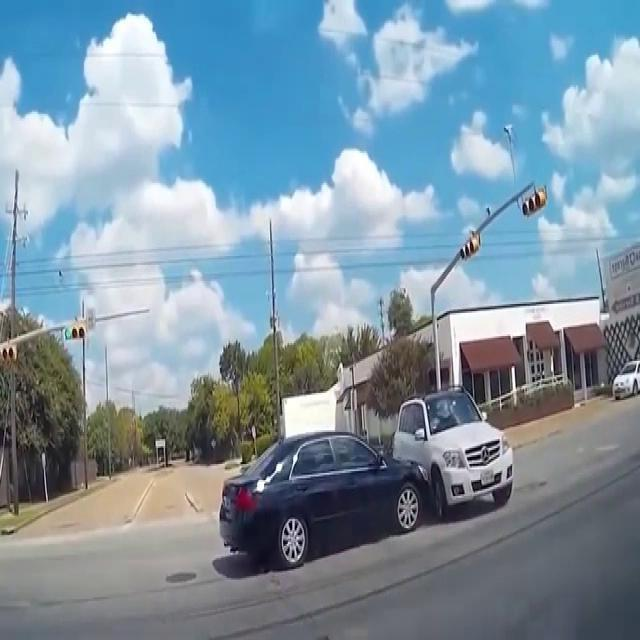multiple_accident: (367, 440, 486, 541)
